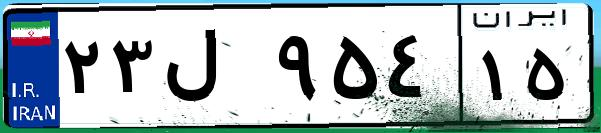1: (475, 38, 525, 113)
2: (57, 26, 110, 100)
3: (110, 28, 158, 98)
4: (385, 28, 445, 110)
5: (330, 28, 385, 110), (525, 38, 570, 115)
9: (270, 28, 330, 110)
ل: (158, 20, 270, 120)
